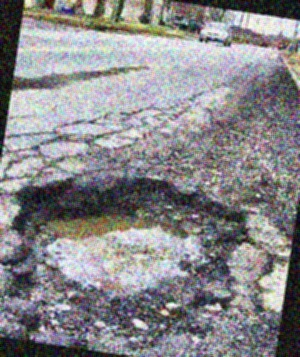pothole: (0, 155, 255, 357)
